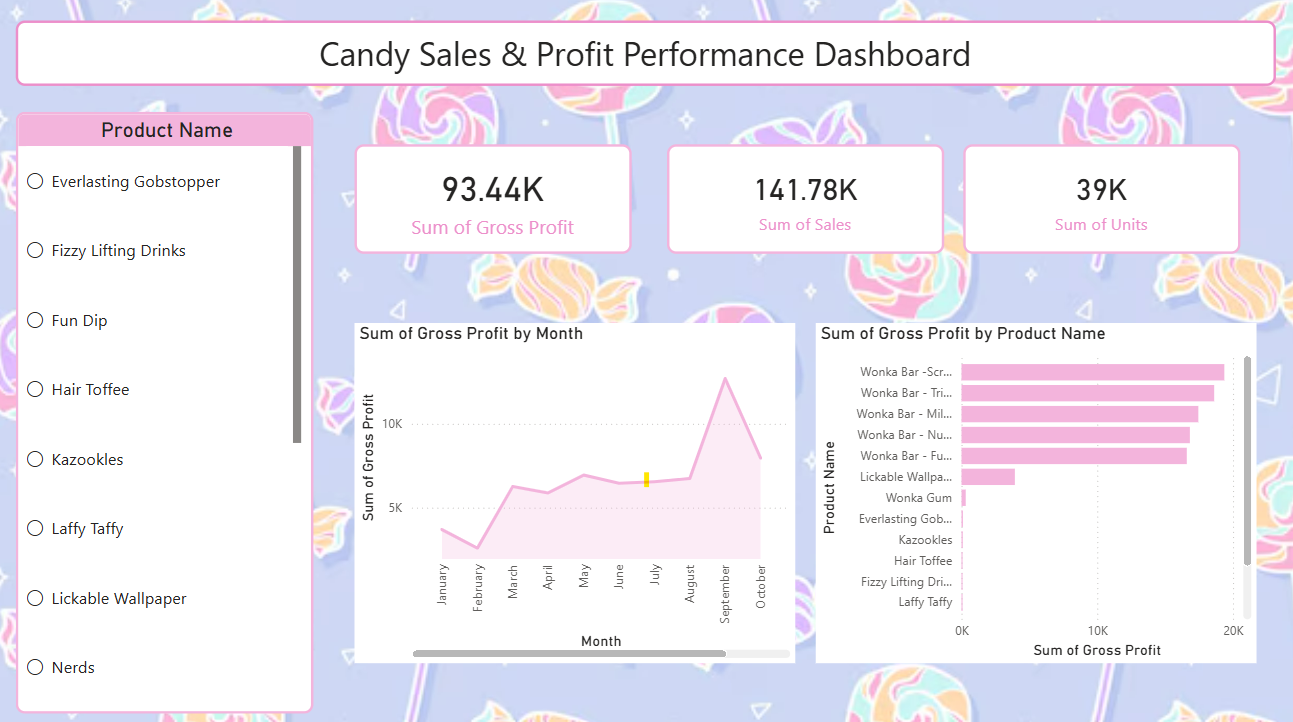

The page's visual inventory and layout, read from the dashboard file:
{"tool":"powerbi","page":{"name":"Page 1","canvas":[1280,720],"ordinal":0},"visuals":[{"type":"image","box":[0,0,1280,720],"z":0},{"type":"card","fields":{"Values":["Sum(public Sales.Gross Profit)"]},"box":[350,148.6,271.4,107.1],"z":1000},{"type":"listSlicer","fields":{"Values":["public Products.Product Name"]},"box":[18.6,115.7,291.4,588.6],"z":2000},{"type":"textbox","box":[18.6,27.1,1232.9,64.3],"z":3000},{"type":"card","fields":{"Values":["Sum(public Sales.Units)"]},"box":[945.7,148.6,271.4,107.1],"z":4000},{"type":"card","fields":{"Values":["Sum(public Sales.Sales)"]},"box":[655.7,148.6,271.4,107.1],"z":5000},{"type":"lineChart","fields":{"Y":["Sum(public Sales.Gross Profit)"],"Category":["public Sales.Order Date.Variation.Date Hierarchy.Month"]},"box":[350,322.9,431.4,332.9],"z":6000},{"type":"clusteredBarChart","fields":{"Category":["public Products.Product Name"],"Y":["Sum(public Sales.Gross Profit)"]},"box":[801.4,322.9,431.4,332.9],"z":7000}]}

Visuals, with their boxes in screenshot pixels (x1, y1, x2, y2), scaled from the page's 1280x720 canvas onto the 1293x722 screenshot:
image: left=0, top=0, right=1292, bottom=721
card - Sum(public Sales.Gross Profit): left=354, top=149, right=628, bottom=256
listSlicer - public Products.Product Name: left=19, top=116, right=313, bottom=706
textbox: left=19, top=27, right=1264, bottom=92
card - Sum(public Sales.Units): left=955, top=149, right=1229, bottom=256
card - Sum(public Sales.Sales): left=662, top=149, right=937, bottom=256
lineChart - Sum(public Sales.Gross Profit) x public Sales.Order Date.Variation.Date Hierarchy.Month: left=354, top=324, right=789, bottom=658
clusteredBarChart - public Products.Product Name x Sum(public Sales.Gross Profit): left=810, top=324, right=1245, bottom=658
